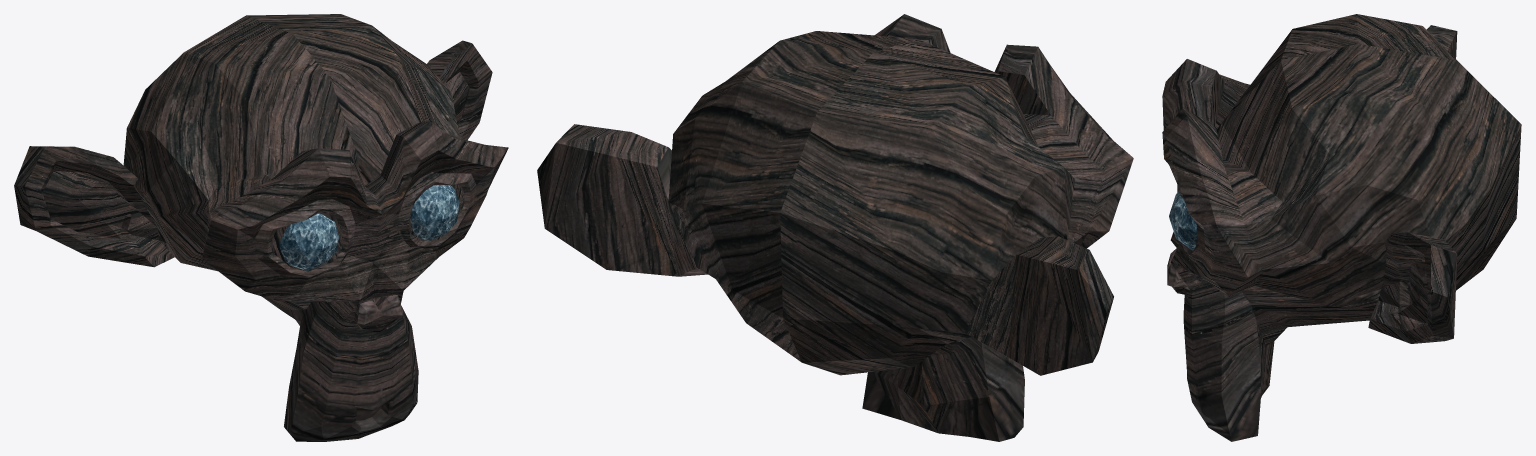
File: suzanne.gltf
3 renders of one model, left to right at view 1: azimuth 30°, elevation 25°; view 2: azimuth 150°, elevation 25°; view 3: azimuth 270°, elevation 25°, orthographic. The views are drawn at different scales.
Parts seen in each view (by area): view 1: Suzanne, Icosphere, Icosphere.001; view 2: Suzanne; view 3: Suzanne, Icosphere.001.
Part boxes in pixels (x1,y1,x2,y2): Suzanne: (14,14,508,441); Icosphere: (279,213,338,271); Icosphere.001: (410,185,459,240); Suzanne: (537,14,1133,441); Suzanne: (1162,14,1521,441); Icosphere.001: (1169,192,1197,250).
Size of the model in its own units: 2.73 by 1.97 by 1.7.
Materials: 2 (2 with a texture image).
